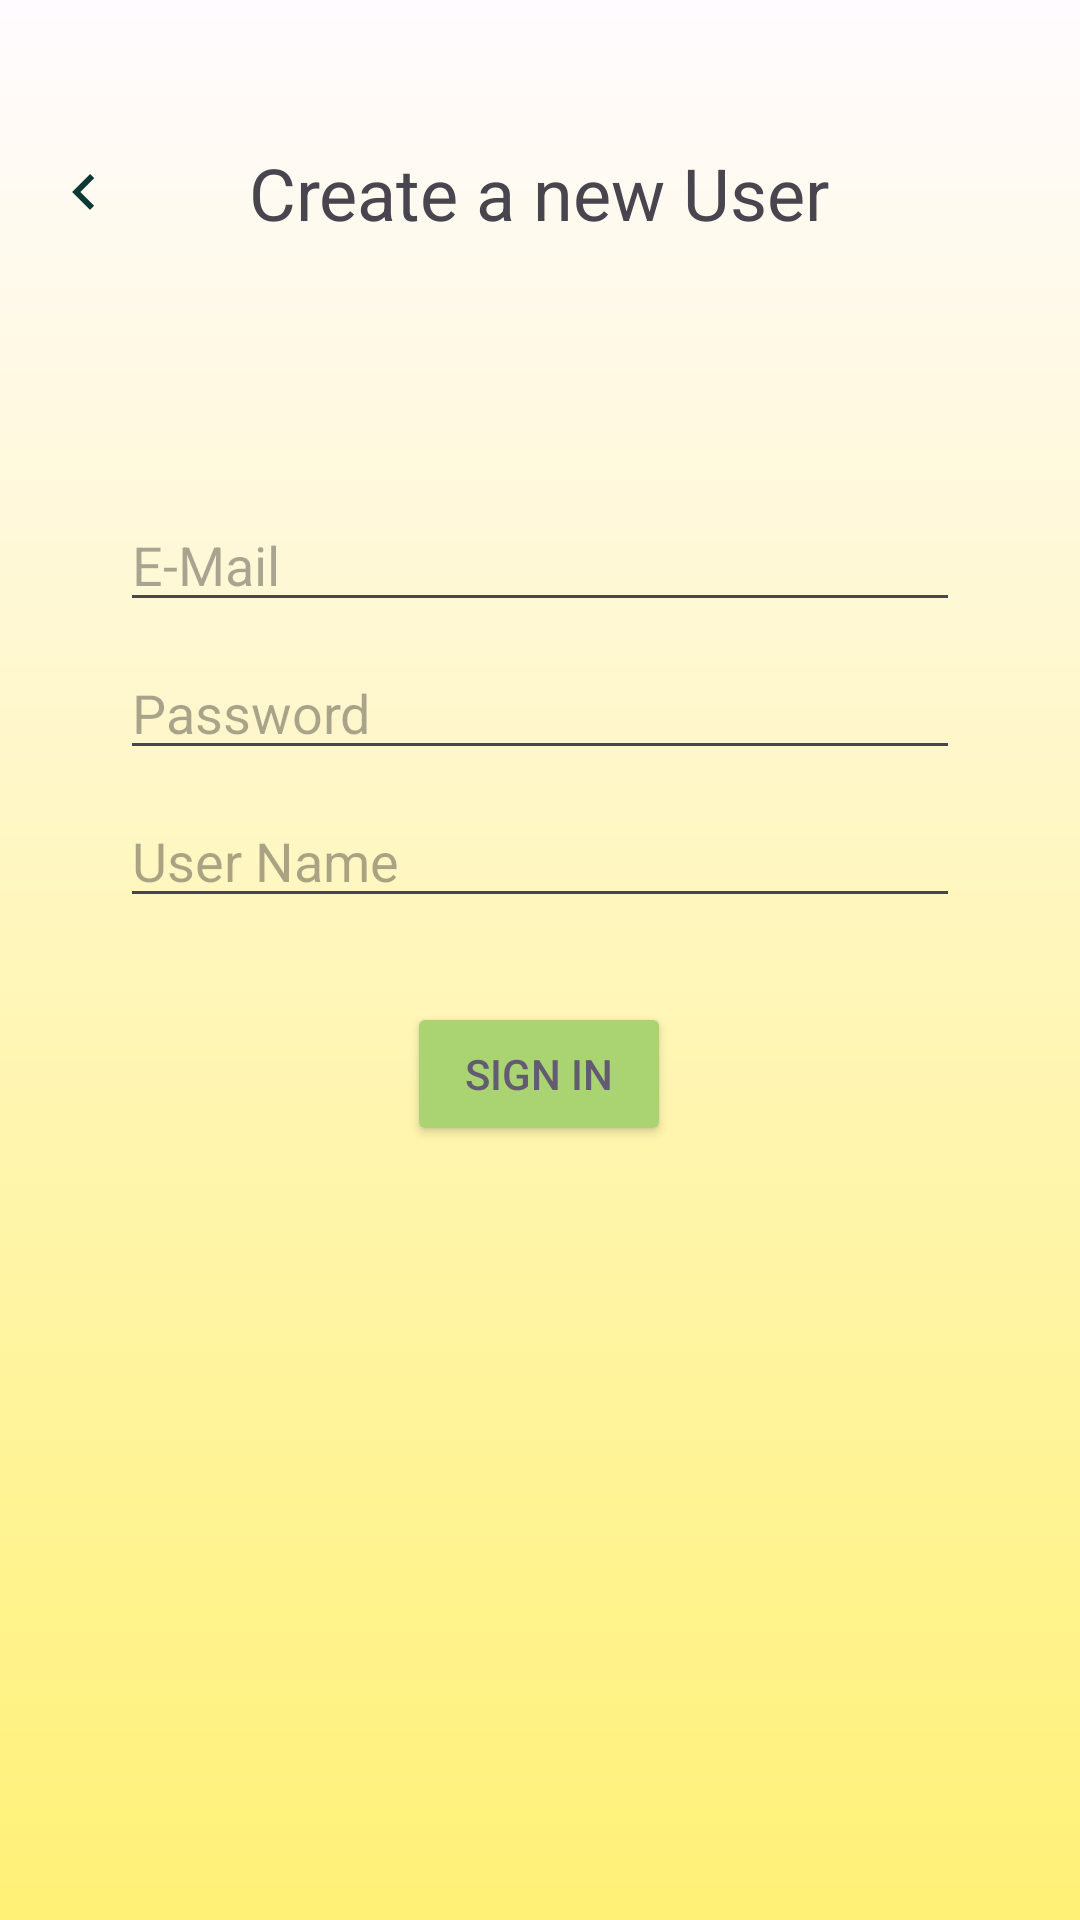

Screen size 1080x1920. Icon name, then its box in pixels as (x1, y1, x2, y2):
arrow left: (72, 174, 94, 210)
